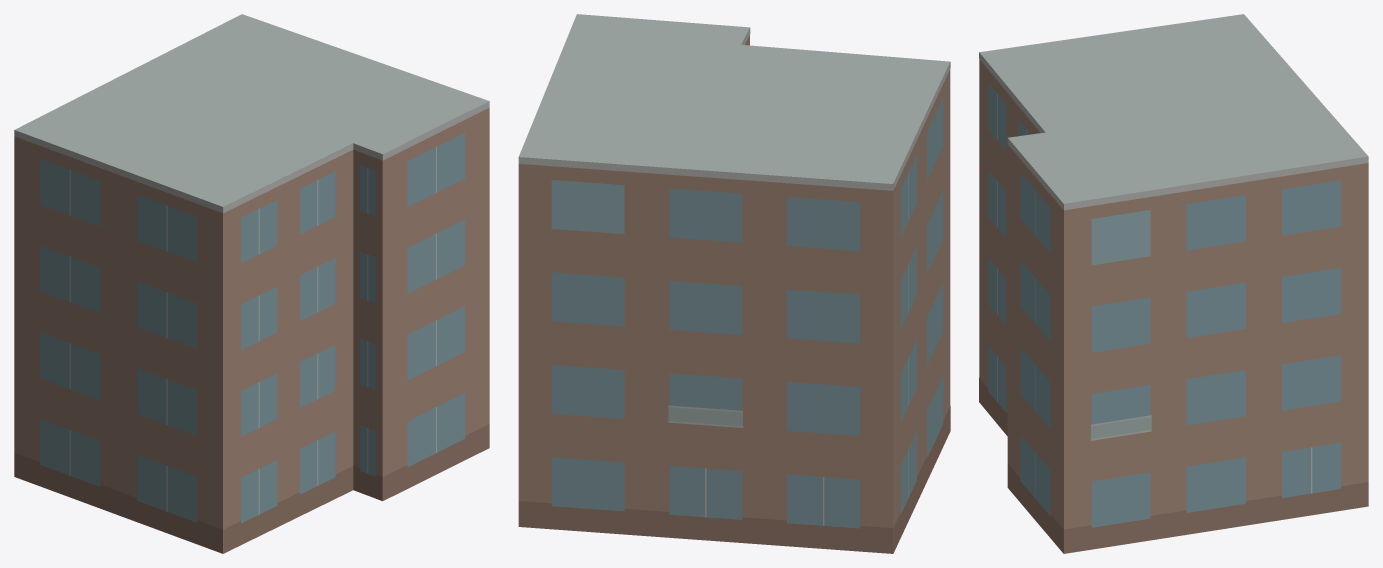
Rendered from survey-upis-32865217.glb.
3 views of the same model, side by side, from view 1: azimuth 30°, elevation 25°; view 2: azimuth 150°, elevation 25°; view 3: azimuth 270°, elevation 25° (orthographic). The views are drawn at different scales.
Visible parts, largest first — view 1: survey-upis-32865217.tmp; view 2: survey-upis-32865217.tmp; view 3: survey-upis-32865217.tmp.
Boxes of the visible parts, box(x1,y1,x2,y2) form: survey-upis-32865217.tmp: box(14, 14, 489, 553); survey-upis-32865217.tmp: box(518, 14, 950, 553); survey-upis-32865217.tmp: box(979, 14, 1368, 553).
Size of the model in its own units: 15.5 by 13.3 by 13.43.
